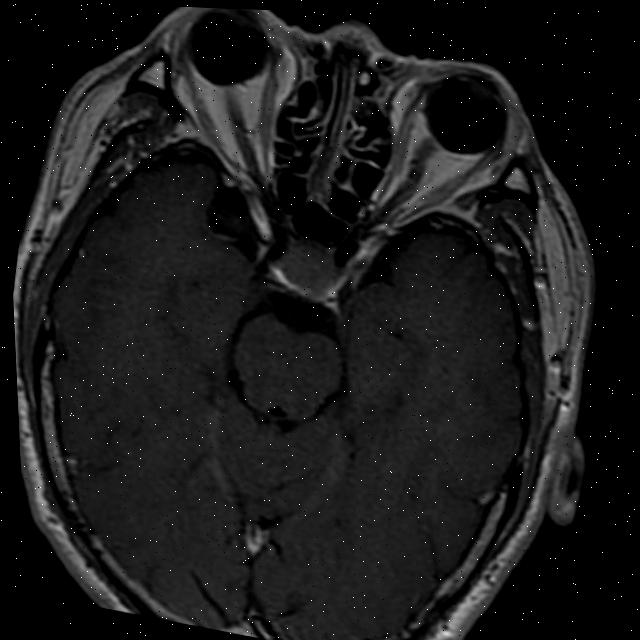Pituitary: (267, 228, 347, 307)
